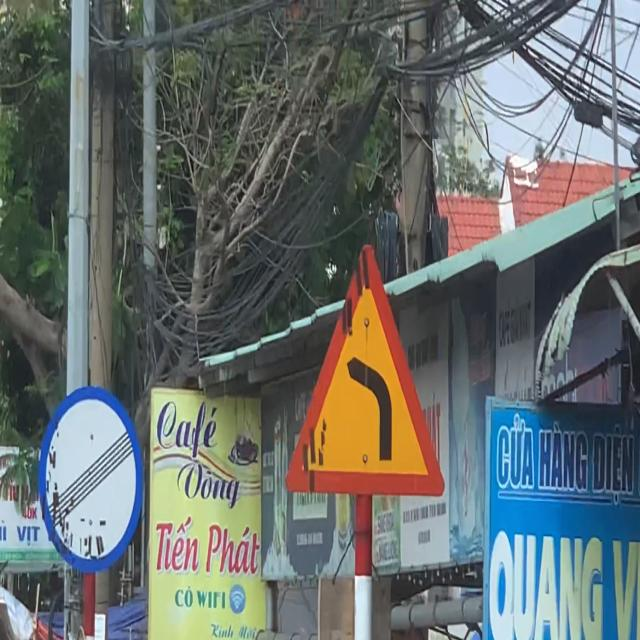Het tat ca lenh cam: (35, 381, 144, 572)
Nguy hiem: (279, 229, 453, 514)
